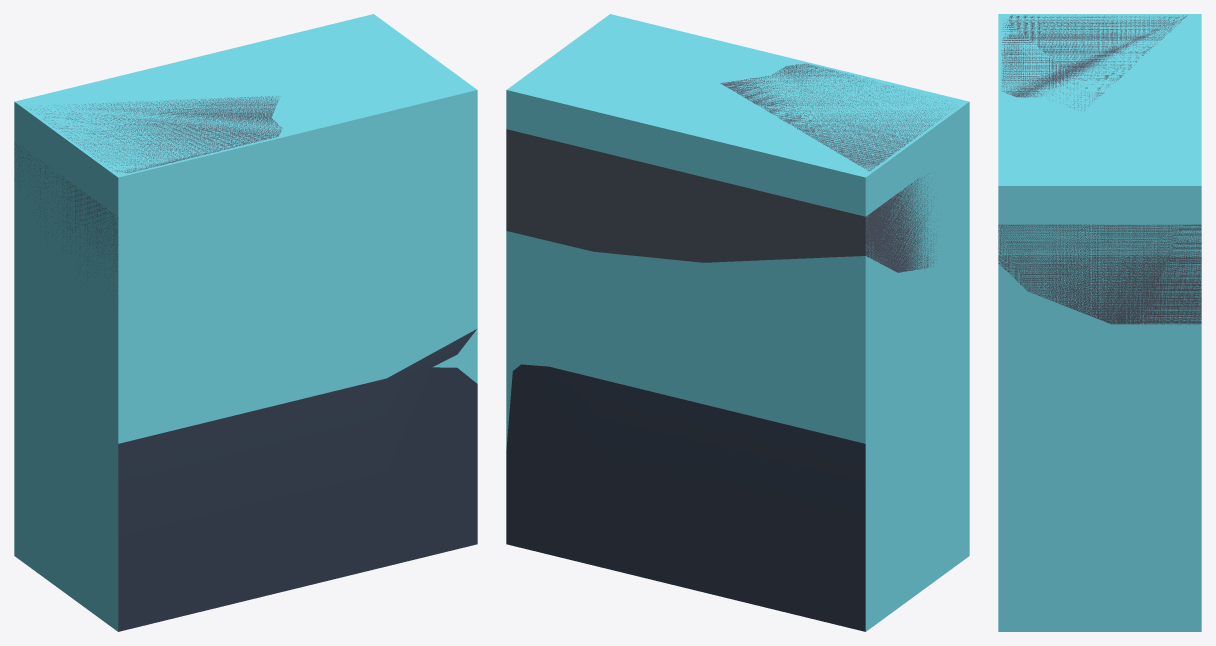
Rendered from PBOX2_FLA_01.FBX.
3 renders of one model, left to right at view 1: azimuth 30°, elevation 25°; view 2: azimuth 150°, elevation 25°; view 3: azimuth 270°, elevation 25°, orthographic.
Parts seen in each view (by area): view 1: PBOX2_FLA_01, PBOX2_SUB_TAB_FlA_002, PBOX2_SUB_FLA_003; view 2: PBOX2_FLA_01, PBOX2_SUB_TAB_FlA_002, PBOX2_SUB_FLA_003; view 3: PBOX2_FLA_01, PBOX2_SUB_FLA_003.
Part boxes in pixels (x1,y1,x2,y2): PBOX2_FLA_01: [14, 14, 477, 631]; PBOX2_SUB_TAB_FlA_002: [118, 329, 477, 631]; PBOX2_SUB_FLA_003: [14, 96, 282, 277]; PBOX2_FLA_01: [506, 14, 969, 631]; PBOX2_SUB_TAB_FlA_002: [506, 364, 865, 631]; PBOX2_SUB_FLA_003: [506, 63, 953, 272]; PBOX2_FLA_01: [998, 14, 1201, 631]; PBOX2_SUB_FLA_003: [998, 15, 1201, 324].
Size of the model in its own units: 12 by 14.5 by 6.
